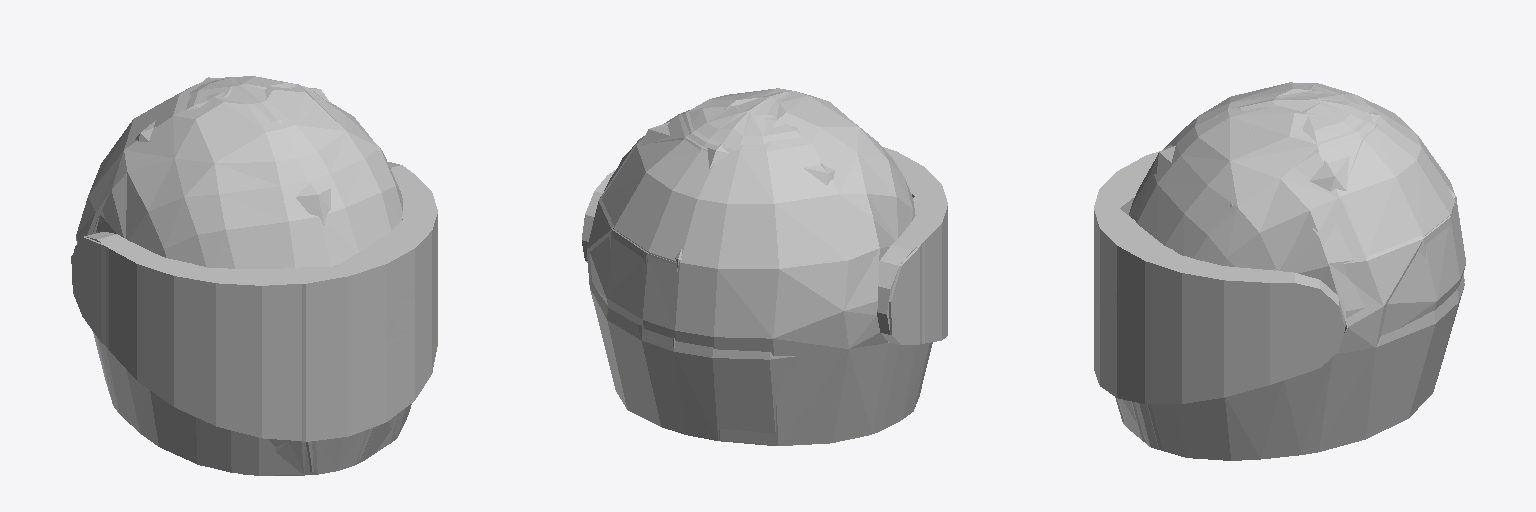
File: minifig_accessory_spacemarauderkit1_helmet.nif.obj
3 renders of one model, left to right at view 1: azimuth 30°, elevation 25°; view 2: azimuth 150°, elevation 25°; view 3: azimuth 270°, elevation 25°, orthographic.
Parts seen in each view (by area): view 1: LOD_0, LOD_1, LOD_2; view 2: LOD_0, LOD_1, LOD_2; view 3: LOD_0, LOD_1, LOD_2.
Part boxes in pixels (x1,y1,x2,y2): LOD_0: (74,76,437,475); LOD_1: (71,77,423,475); LOD_2: (135,77,424,471); LOD_0: (582,88,947,444); LOD_1: (587,92,940,445); LOD_2: (640,122,931,347); LOD_0: (1094,82,1465,449); LOD_1: (1094,85,1464,460); LOD_2: (1094,112,1464,421).
Bounding box in the file's own units: 1.37 × 1.34 × 1.44.